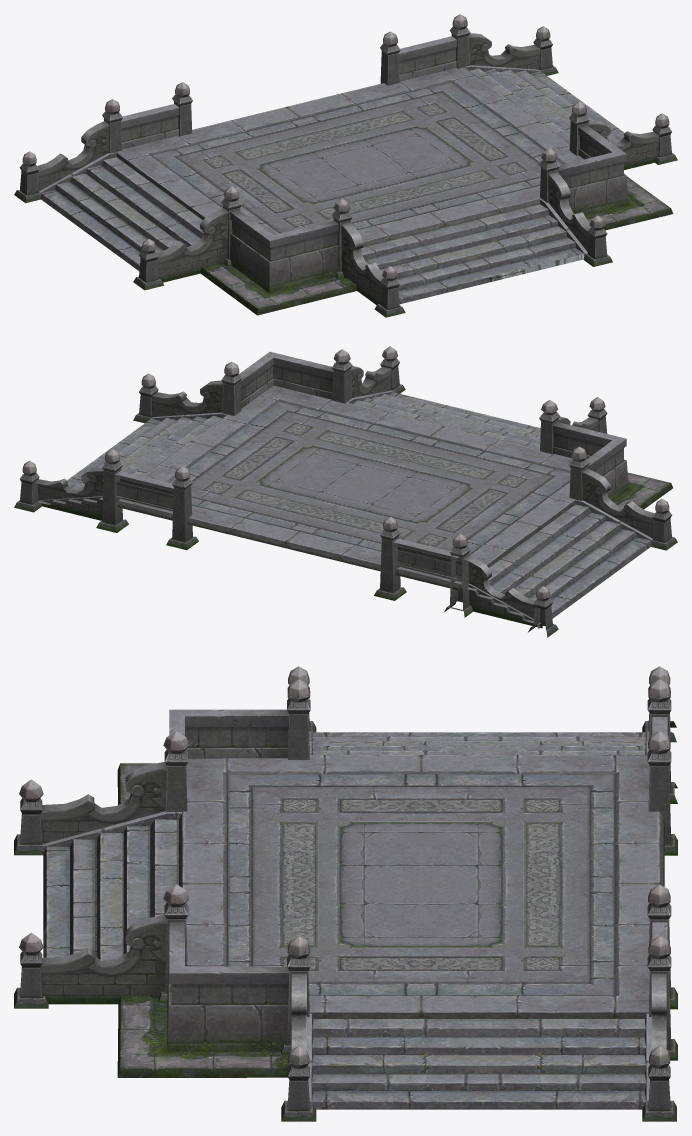
File: xinshou_mentai01_53_40_6499out.fbx
3 renders of one model, top to bottom at view 1: azimuth 30°, elevation 25°; view 2: azimuth 150°, elevation 25°; view 3: azimuth 270°, elevation 25°, orthographic. The views are drawn at different scales.
Parts seen in each view (by area): view 1: xinshou_mentai01; view 2: xinshou_mentai01; view 3: xinshou_mentai01.
Boxes of the visible parts, x1=… form: xinshou_mentai01: x1=14, y1=14, x2=677, y2=317; xinshou_mentai01: x1=14, y1=346, x2=677, y2=637; xinshou_mentai01: x1=14, y1=666, x2=677, y2=1121.
Bounding box in the file's own units: 14.84 × 2.06 × 10.56.
